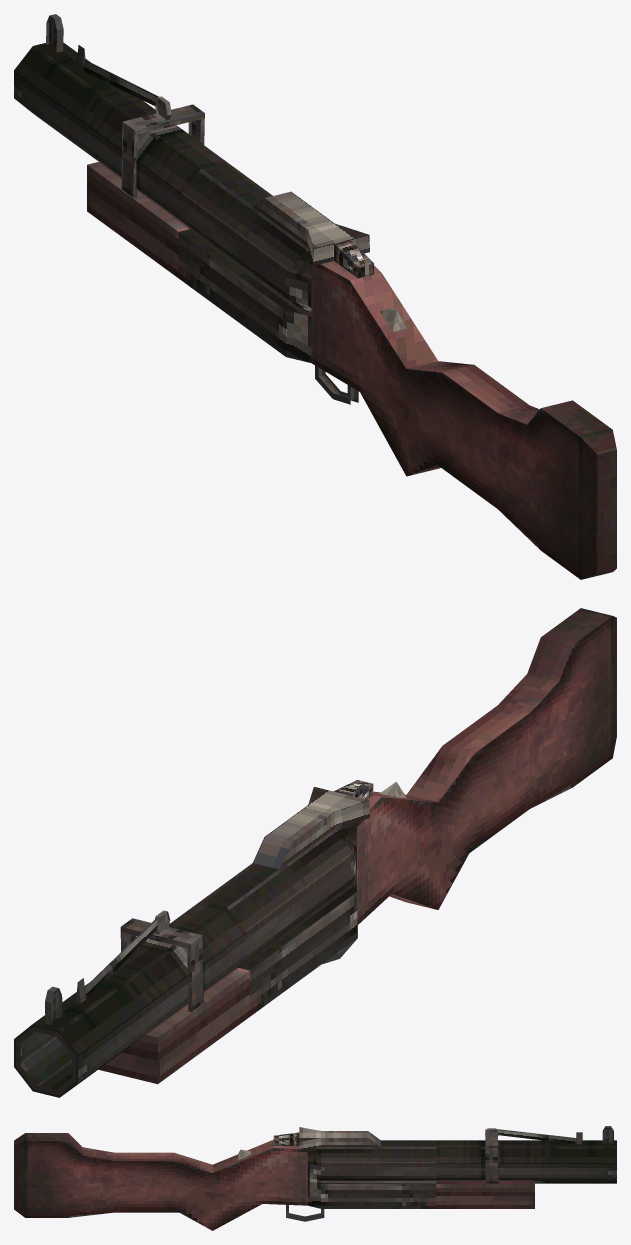
Rendered from recovered_gun_m79.glb.
The picture shows the model from 3 angles, top to bottom: view 1: azimuth 30°, elevation 25°; view 2: azimuth 150°, elevation 25°; view 3: azimuth 270°, elevation 25°; orthographic projection. The views are drawn at different scales.
Visible parts, largest first — view 1: Gun_3e09a20d018c; view 2: Gun_3e09a20d018c; view 3: Gun_3e09a20d018c.
Boxes of the visible parts, box(x1,y1,x2,y2) form: Gun_3e09a20d018c: box(14, 14, 616, 579); Gun_3e09a20d018c: box(14, 608, 616, 1097); Gun_3e09a20d018c: box(14, 1126, 616, 1230).
Size of the model in its own units: 0.0577 by 0.1431 by 0.7808.
1 material, 1 textured.
